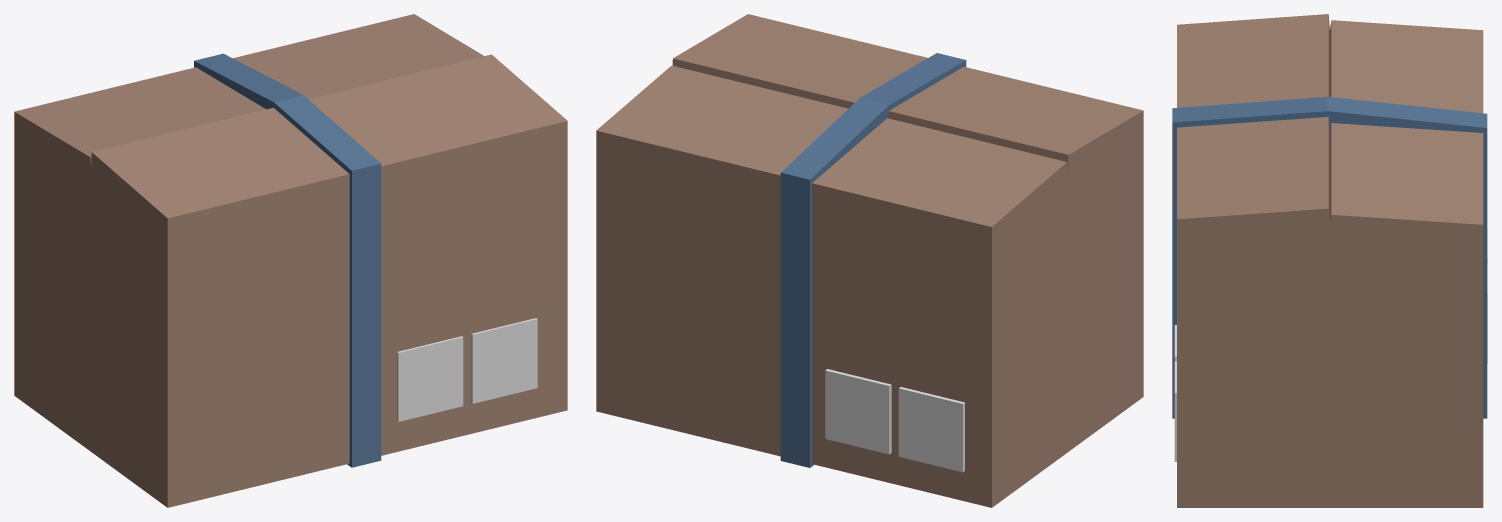
The model's file is PackageBox_Medium.fbx.
3 views of the same model, side by side, from view 1: azimuth 30°, elevation 25°; view 2: azimuth 150°, elevation 25°; view 3: azimuth 270°, elevation 25° (orthographic).
Parts seen in each view (by area): view 1: PackageBox_Medium; view 2: PackageBox_Medium; view 3: PackageBox_Medium.
Part boxes in pixels (<box>): PackageBox_Medium: <box>14,14,567,507</box>; PackageBox_Medium: <box>596,14,1143,507</box>; PackageBox_Medium: <box>1172,14,1487,507</box>.
Size of the model in its own units: 77.52 by 57.12 by 53.04.
